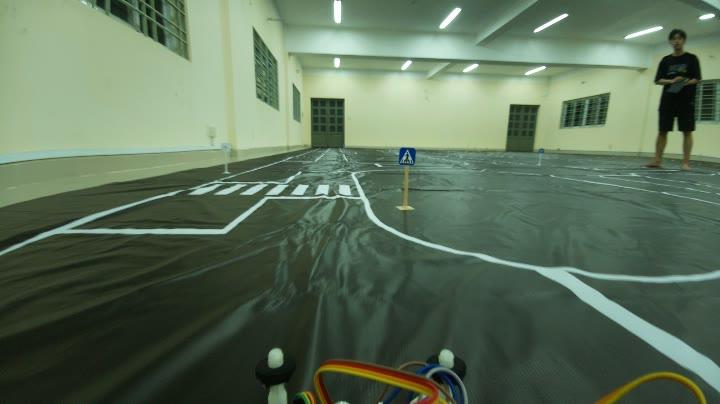crosswalk: (395, 140, 419, 172)
